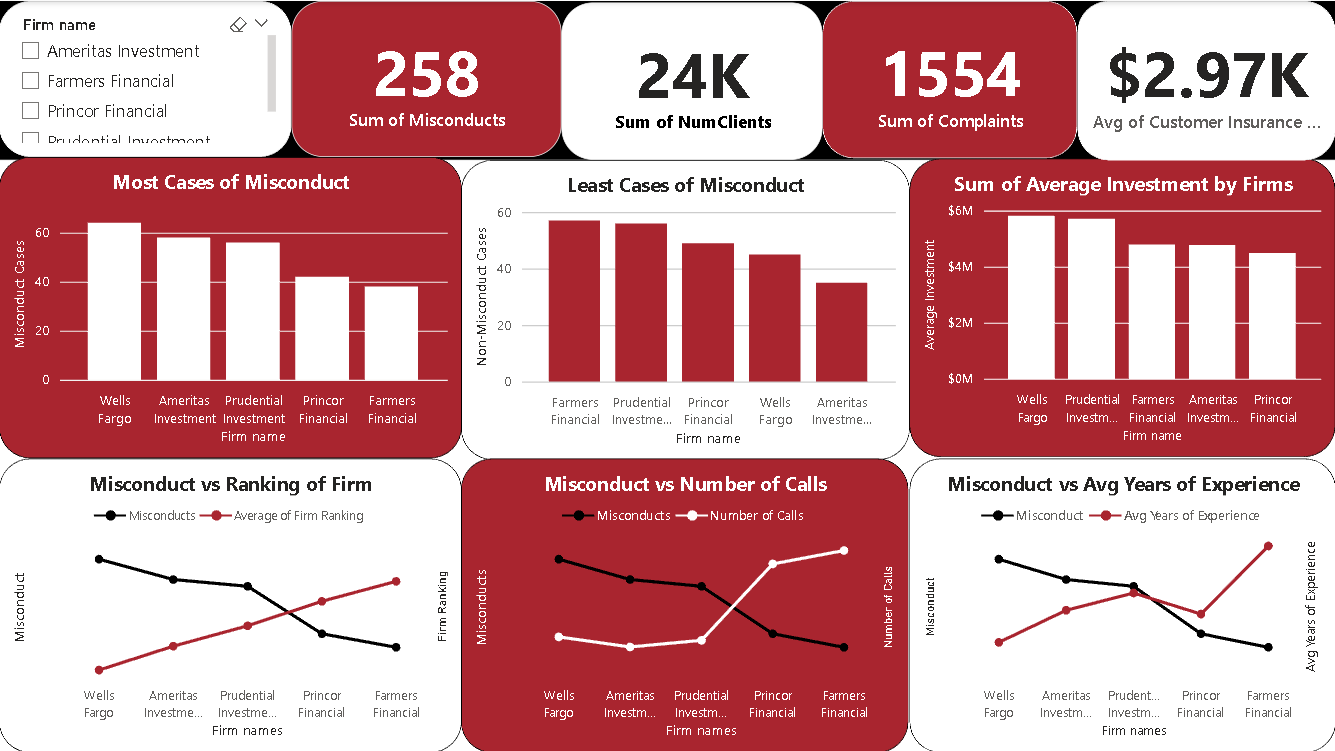

This screenshot's page, from the dashboard's own definition file:
{"tool":"powerbi","page":{"name":"Page 1","canvas":[1280,720],"ordinal":0},"visuals":[{"type":"clusteredColumnChart","title":"Most Cases of Misconduct","fields":{"Category":["AdvisorMisconductData.Firm name"],"Y":["Sum(AdvisorMisconductData.Misconducts (0/1))"]},"box":[0,150,443.3,288.3],"z":0},{"type":"clusteredColumnChart","title":"Least Cases of Misconduct","fields":{"Category":["AdvisorMisconductData.Firm name"],"Y":["Sum(AdvisorMisconductData.Misconduct (0))"]},"box":[443.3,150,428.3,286.7],"z":1},{"type":"card","fields":{"Values":["Sum(AdvisorMisconductData.Complaints)"]},"box":[771.7,0,230,150],"z":2},{"type":"lineChart","title":"Misconduct vs Ranking of Firm","fields":{"Category":["AdvisorMisconductData.Firm name"],"Y":["Sum(AdvisorMisconductData.Misconducts (1))"],"Y2":["Avg(AdvisorMisconductData.Firm Ranking)"]},"box":[0,438.3,443.3,281.7],"z":3},{"type":"lineChart","title":"Misconduct vs Number of Calls","fields":{"Category":["AdvisorMisconductData.Firm name"],"Y":["Sum(AdvisorMisconductData.Misconducts (1))"],"Y2":["Avg(AdvisorMisconductData.Number of Calls)"]},"box":[443.3,438.3,428.3,281.7],"z":4},{"type":"lineChart","title":"Misconduct vs Avg Years of Experience","fields":{"Category":["AdvisorMisconductData.Firm name"],"Y":["Sum(AdvisorMisconductData.Misconducts (1))"],"Y2":["Avg(AdvisorMisconductData.YearsExperience)"]},"box":[871.7,438.3,408.3,281.7],"z":5},{"type":"columnChart","title":"Sum of Average Investment by Firms","fields":{"Category":["AdvisorMisconductData.Firm name"],"Y":["Sum(AdvisorMisconductData.AvgInvestment)"]},"box":[871.7,151.7,408.3,286.7],"z":6},{"type":"slicer","title":"Firm Names","fields":{"Values":["AdvisorMisconductData.Firm name"]},"box":[0,0,273.3,76.7],"z":7},{"type":"card","fields":{"Values":["Sum(AdvisorMisconductData.Misconducts (1))"]},"box":[311.7,0,230,150],"z":8},{"type":"card","fields":{"Values":["Sum(AdvisorMisconductData.NumClients)"]},"box":[541.7,1.7,230,150],"z":9},{"type":"card","fields":{"Values":["Avg(AdvisorMisconductData.Customer Insurance Premium)"]},"box":[1001.7,0,230,150],"z":10}]}

Visuals, with their boxes in screenshot pixels (x1, y1, x2, y2), scaled from the page's 1280x720 canvas onto the 1335x751 screenshot:
"Most Cases of Misconduct" clusteredColumnChart: x1=0 y1=156 x2=462 y2=457
"Least Cases of Misconduct" clusteredColumnChart: x1=462 y1=156 x2=909 y2=456
card - Sum(AdvisorMisconductData.Complaints): x1=805 y1=0 x2=1045 y2=156
"Misconduct vs Ranking of Firm" lineChart: x1=0 y1=457 x2=462 y2=750
"Misconduct vs Number of Calls" lineChart: x1=462 y1=457 x2=909 y2=750
"Misconduct vs Avg Years of Experience" lineChart: x1=909 y1=457 x2=1334 y2=750
"Sum of Average Investment by Firms" columnChart: x1=909 y1=158 x2=1334 y2=457
"Firm Names" slicer: x1=0 y1=0 x2=285 y2=80
card - Sum(AdvisorMisconductData.Misconducts (1)): x1=325 y1=0 x2=565 y2=156
card - Sum(AdvisorMisconductData.NumClients): x1=565 y1=2 x2=805 y2=158
card - Avg(AdvisorMisconductData.Customer Insurance Premium): x1=1045 y1=0 x2=1285 y2=156
